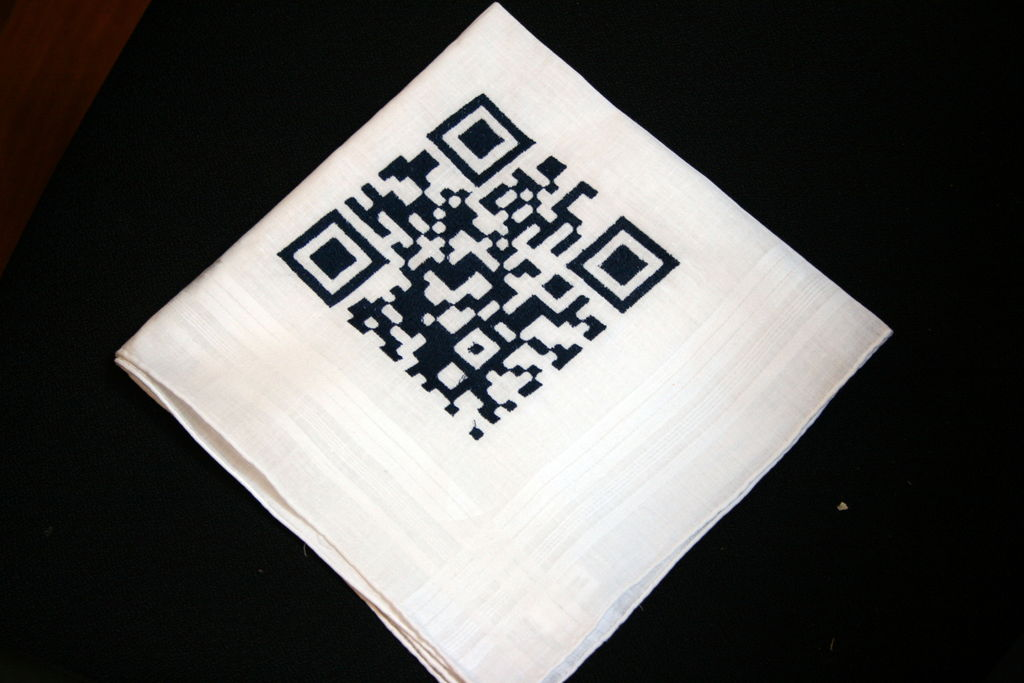QR: (280, 94, 682, 443)
